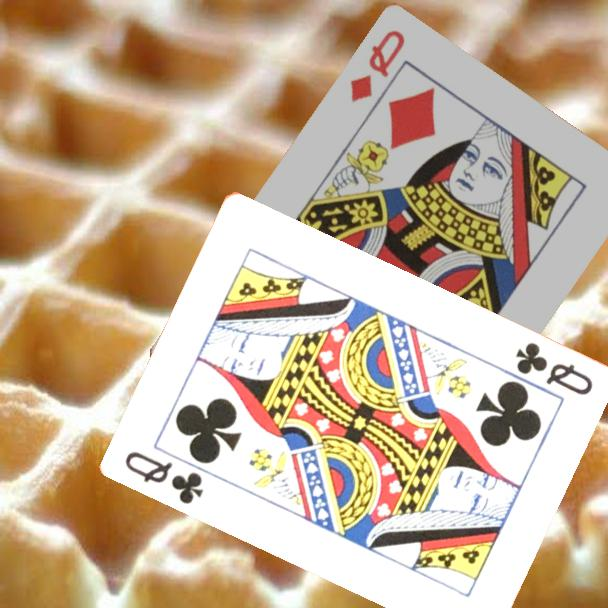c12: (512, 338, 597, 398), (122, 447, 207, 507)
d12: (346, 27, 408, 106)
